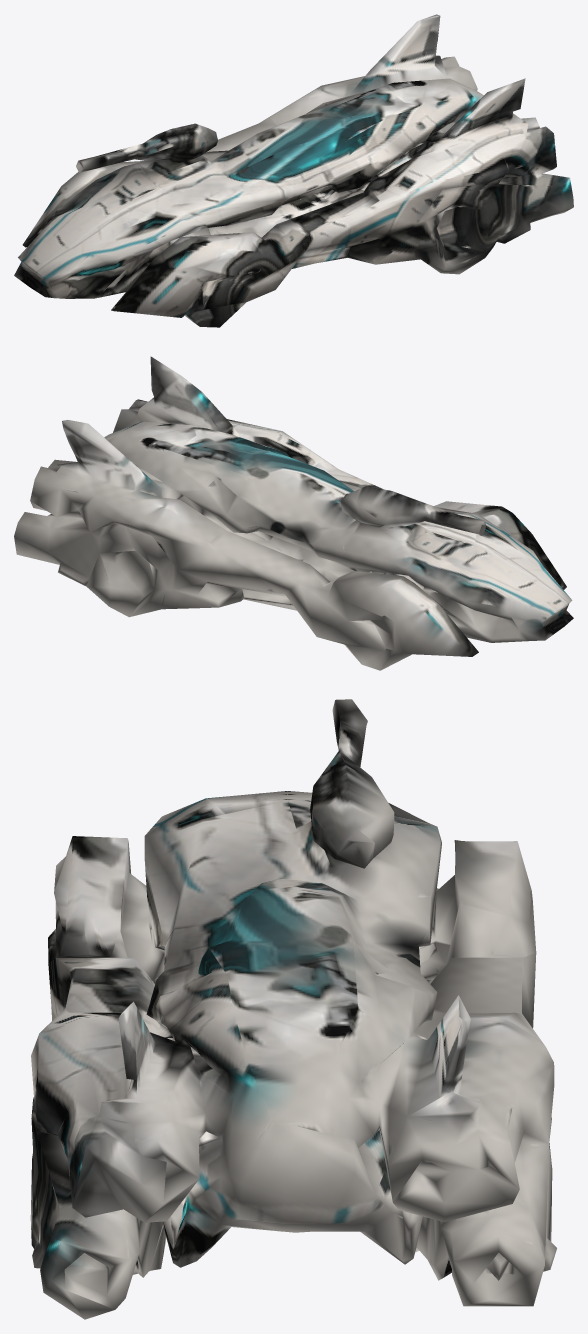
File: gibli_lod2.glb
3 views of the same model, one above another, from view 1: azimuth 30°, elevation 25°; view 2: azimuth 150°, elevation 25°; view 3: azimuth 270°, elevation 25° (orthographic). The views are drawn at different scales.
Parts seen in each view (by area): view 1: geometry_0; view 2: geometry_0; view 3: geometry_0.
Part boxes in pixels (bbox=[...]): geometry_0: bbox=[14, 14, 573, 327]; geometry_0: bbox=[14, 356, 573, 670]; geometry_0: bbox=[30, 699, 556, 1319].
Size of the model in its own units: 2 by 0.6501 by 0.9385.
1 material, 1 textured.
